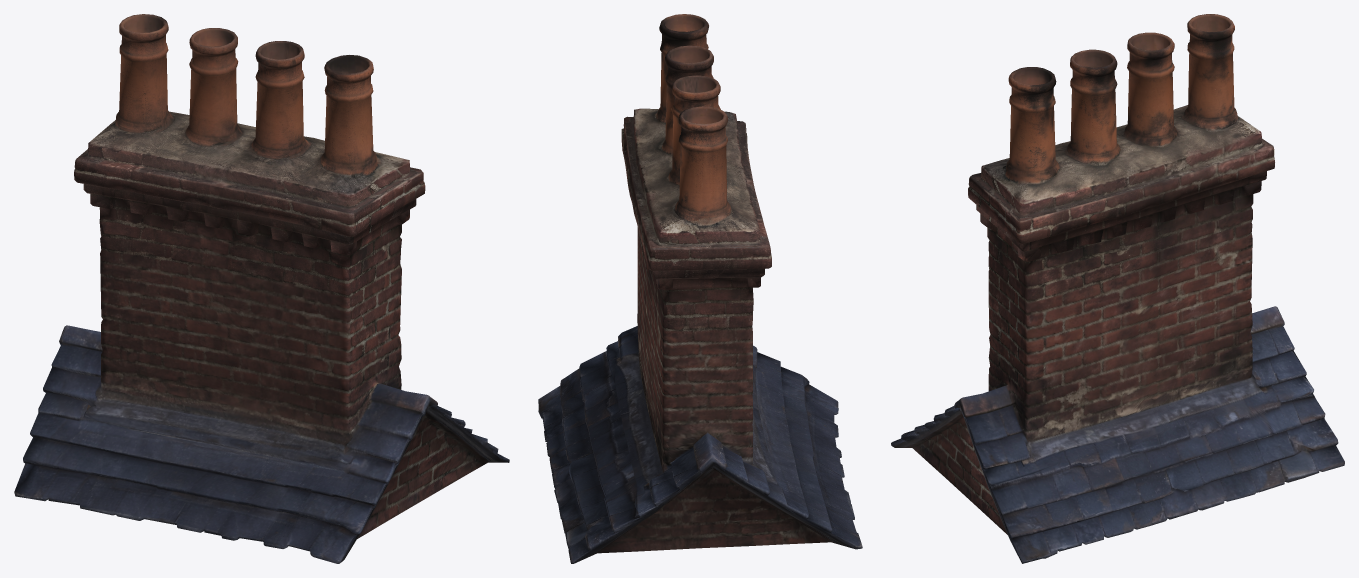
File: SM_Env_SohoChimneyStack.fbx
3 renders of one model, left to right at view 1: azimuth 30°, elevation 25°; view 2: azimuth 150°, elevation 25°; view 3: azimuth 270°, elevation 25°, orthographic. The views are drawn at different scales.
Parts seen in each view (by area): view 1: SM_Env_SohoChimneyStack; view 2: SM_Env_SohoChimneyStack; view 3: SM_Env_SohoChimneyStack.
Part boxes in pixels (left/top/right/bottom): SM_Env_SohoChimneyStack: left=14, top=14, right=509, bottom=563; SM_Env_SohoChimneyStack: left=538, top=14, right=862, bottom=563; SM_Env_SohoChimneyStack: left=891, top=14, right=1344, bottom=563.
Bounding box in the file's own units: 54.11 × 53.41 × 54.
1 material, 1 textured.
